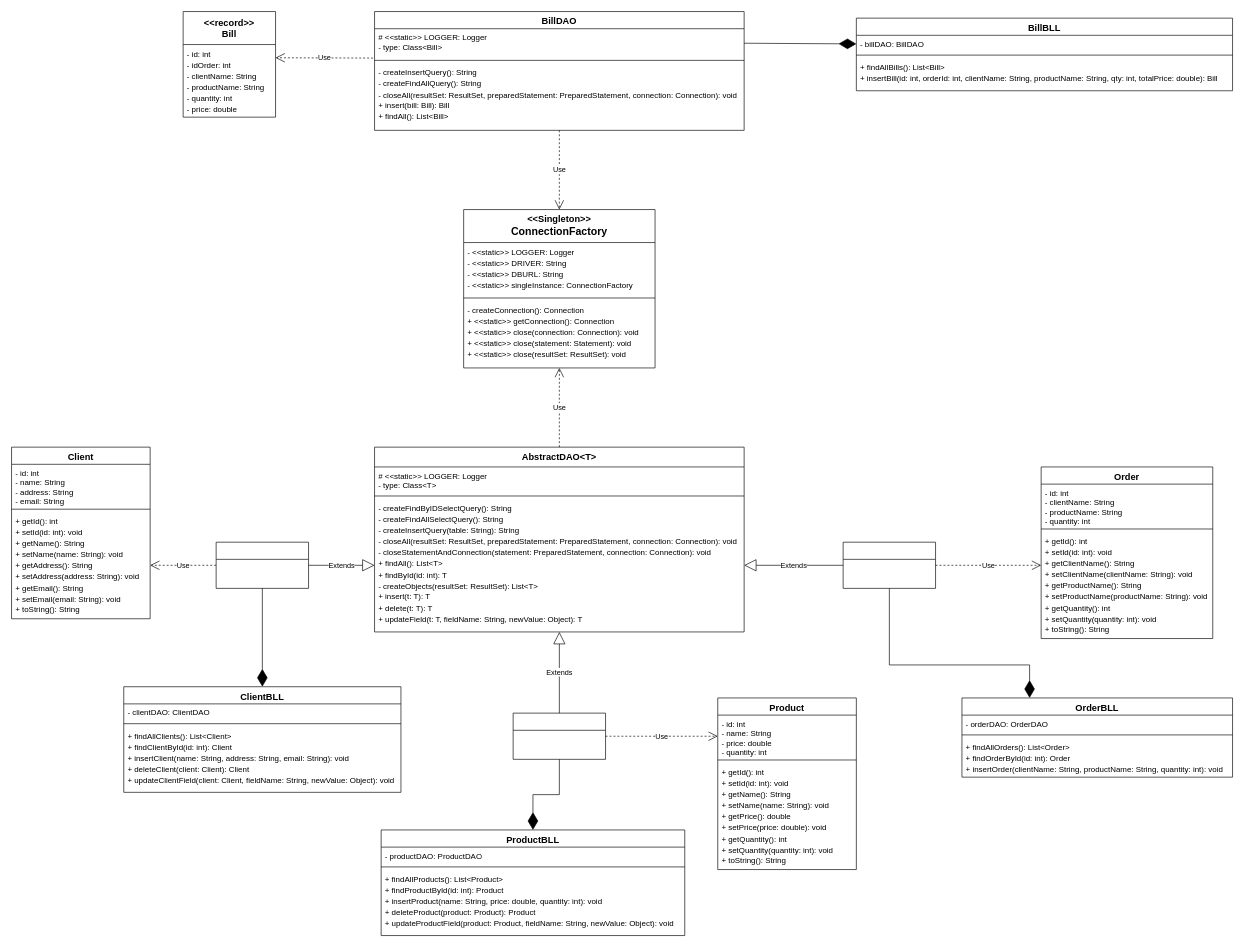
Image size: 1244x949. Some labels were removed from this diagram. Here are the shapes that lost their labels. From the top down, the centre of each, then its label:
At pixel 262 565: "ClientDAO".
At pixel 889 565: "OrderDAO".
At pixel 559 735: "ProductDAO".
